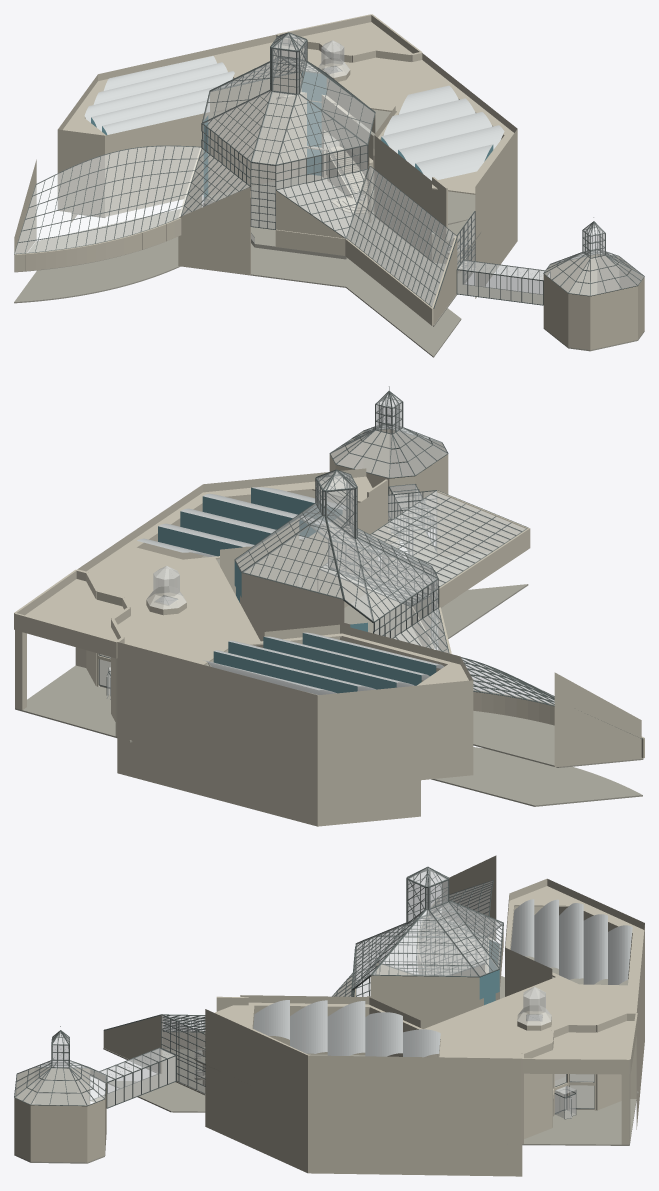
The model's file is MUDAM_R13_PAVYON_CAM_v001_preview.glb.
3 renders of one model, top to bottom at view 1: azimuth 30°, elevation 25°; view 2: azimuth 150°, elevation 25°; view 3: azimuth 270°, elevation 25°, orthographic. The views are drawn at different scales.
Visible parts, largest first — view 1: P05_ZONE_LM1_GALLERIES_FOYER, P05_MAIN_ROOF_DECK, P04_PAV_WALL_ENVELOPE, P05_GALLERY_HALL_WEST1, P05_MAIN_ATRIUM_BASE_3, R07_STAIRWELL_STONE_NORTH, P05_FRONT_0, P05_GALLERY_HALL_EAST1, P05_FLOOR_L00_GH, P05_GALLERY_HALL_WEST2, P05_FLOOR_L00_EAST_GARDEN, P05_FLOOR_L00_WEST_CAFE (+19 smaller); view 2: P05_FRONT_9, P05_MAIN_ROOF_DECK, P05_FRONT_10, P05_ZONE_LM1_GALLERIES_FOYER, P05_WEST_END, P04_PAV_WALL_ENVELOPE, P05_GALLERY_HALL_WEST3, P07_CANOPY_PAVING_DISPLAY, P05_GALLERY_HALL_EAST1, P05_FLOOR_L00_WEST_CAFE, R11_STONE_END, P07_CANOPY_SLAB_ENVELOPE (+25 smaller); view 3: P05_FRONT_1, P05_MAIN_ROOF_DECK, P05_FRONT_0, P04_PAV_WALL_ENVELOPE, P07_CANOPY_PAVING_DISPLAY, P06_HIGH_EAVE_UPSTAND_5, P07_CANOPY_SLAB_ENVELOPE, P05_WEST_END, R11_STONE_END, P07_ENTRY_RETURN_1, P07_CANOPY_FASCIA_0, P05_MAIN_ATRIUM_BASE_5_R02_BEFORE_R04_ABOVE (+14 smaller).
Part boxes in pixels (x1=…): P05_ZONE_LM1_GALLERIES_FOYER: x1=14, y1=237, x2=461, y2=357; P05_MAIN_ROOF_DECK: x1=61, y1=42, x2=517, y2=194; P04_PAV_WALL_ENVELOPE: x1=543, y1=254, x2=644, y2=349; P05_GALLERY_HALL_WEST1: x1=105, y1=112, x2=212, y2=216; P05_MAIN_ATRIUM_BASE_3: x1=208, y1=93, x2=306, y2=195; R07_STAIRWELL_STONE_NORTH: x1=178, y1=187, x2=250, y2=275; P05_FRONT_0: x1=475, y1=129, x2=517, y2=298; P05_GALLERY_HALL_EAST1: x1=374, y1=135, x2=431, y2=261; P05_FLOOR_L00_GH: x1=203, y1=175, x2=374, y2=256; P05_GALLERY_HALL_WEST2: x1=57, y1=129, x2=104, y2=216; P05_FLOOR_L00_EAST_GARDEN: x1=349, y1=217, x2=475, y2=326; P05_FLOOR_L00_WEST_CAFE: x1=14, y1=204, x2=202, y2=272; P05_FRONT_9: x1=117, y1=642, x2=317, y2=826; P05_MAIN_ROOF_DECK: x1=86, y1=476, x2=472, y2=704; P05_FRONT_10: x1=317, y1=685, x2=420, y2=826; P05_ZONE_LM1_GALLERIES_FOYER: x1=431, y1=584, x2=642, y2=806; P05_WEST_END: x1=554, y1=672, x2=641, y2=767; P04_PAV_WALL_ENVELOPE: x1=329, y1=429, x2=448, y2=529; P05_GALLERY_HALL_WEST3: x1=421, y1=680, x2=473, y2=780; P07_CANOPY_PAVING_DISPLAY: x1=15, y1=665, x2=117, y2=737; P05_GALLERY_HALL_EAST1: x1=302, y1=490, x2=378, y2=607; P05_FLOOR_L00_WEST_CAFE: x1=473, y1=711, x2=643, y2=767; R11_STONE_END: x1=437, y1=490, x2=528, y2=557; P07_CANOPY_SLAB_ENVELOPE: x1=25, y1=579, x2=123, y2=640; P05_FRONT_1: x1=308, y1=1055, x2=522, y2=1176; P05_MAIN_ROOF_DECK: x1=207, y1=886, x2=644, y2=1066; P05_FRONT_0: x1=205, y1=1009, x2=307, y2=1173; P04_PAV_WALL_ENVELOPE: x1=14, y1=1067, x2=106, y2=1162; P07_CANOPY_PAVING_DISPLAY: x1=522, y1=1099, x2=636, y2=1145; P06_HIGH_EAVE_UPSTAND_5: x1=370, y1=975, x2=479, y2=999; P07_CANOPY_SLAB_ENVELOPE: x1=532, y1=1021, x2=634, y2=1058; P05_WEST_END: x1=442, y1=855, x2=496, y2=940; R11_STONE_END: x1=103, y1=1014, x2=162, y2=1073; P07_ENTRY_RETURN_1: x1=521, y1=1042, x2=552, y2=1138; P07_CANOPY_FASCIA_0: x1=522, y1=1058, x2=629, y2=1074; P05_MAIN_ATRIUM_BASE_5_R02_BEFORE_R04_ABOVE: x1=379, y1=998, x2=478, y2=1028.
Bounding box in the file's own units: 80.45 × 35.94 × 93.32.
